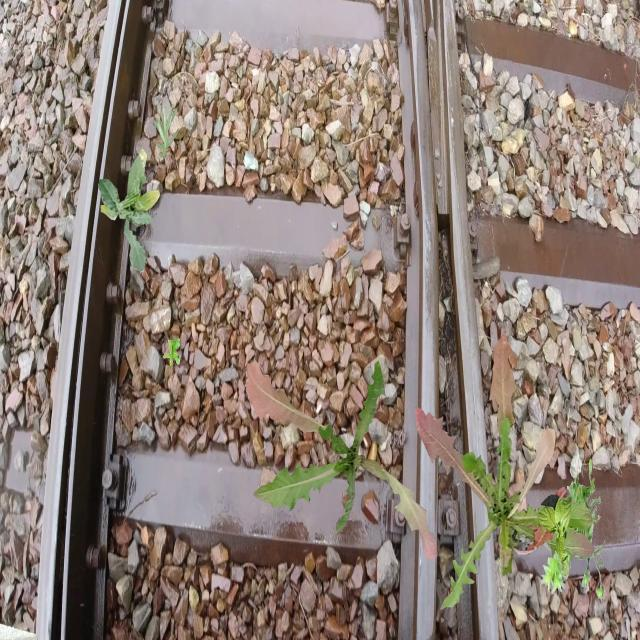Plant: (415, 332, 595, 610), (245, 359, 438, 562), (541, 459, 606, 602), (98, 148, 160, 272), (537, 494, 572, 578), (153, 102, 180, 158), (163, 336, 180, 368)
